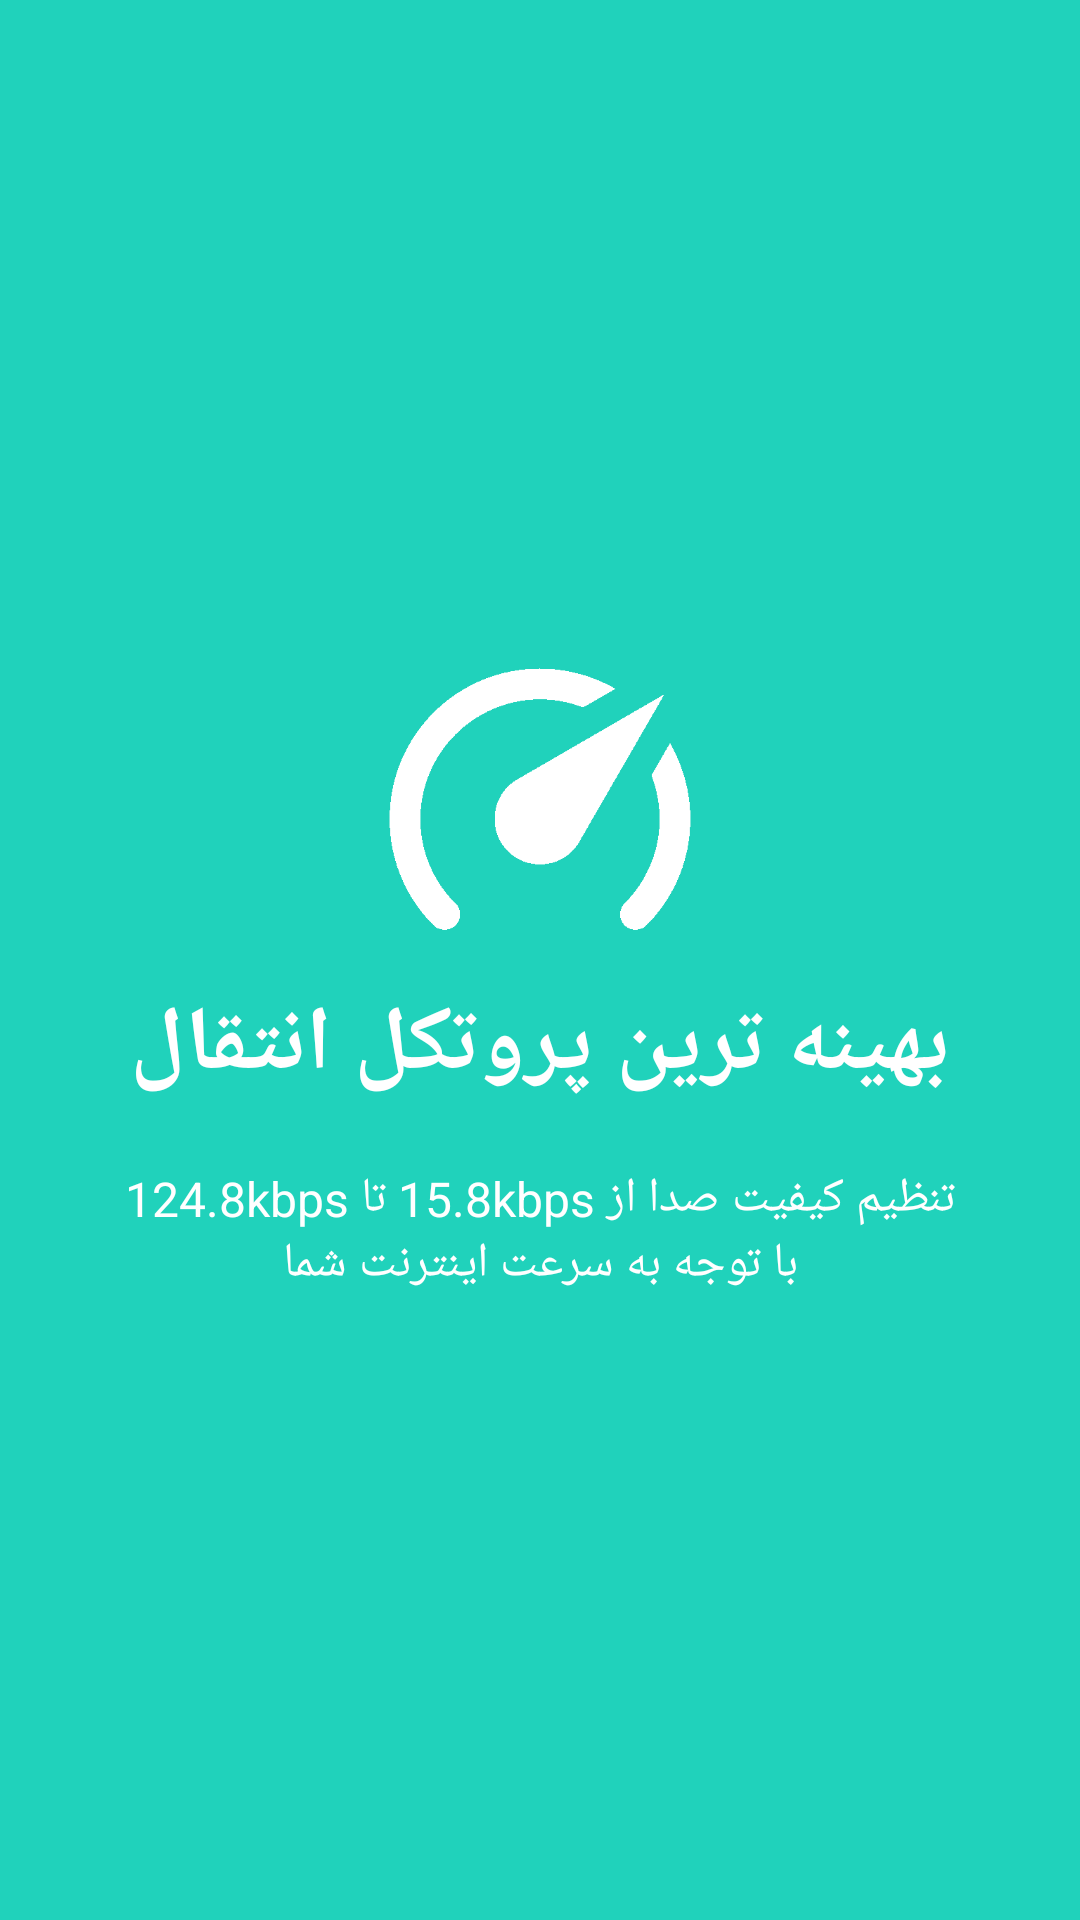

Screen size 1080*1920. Icon name, then its center in pixels as (x,y):
speed: (540,799)
